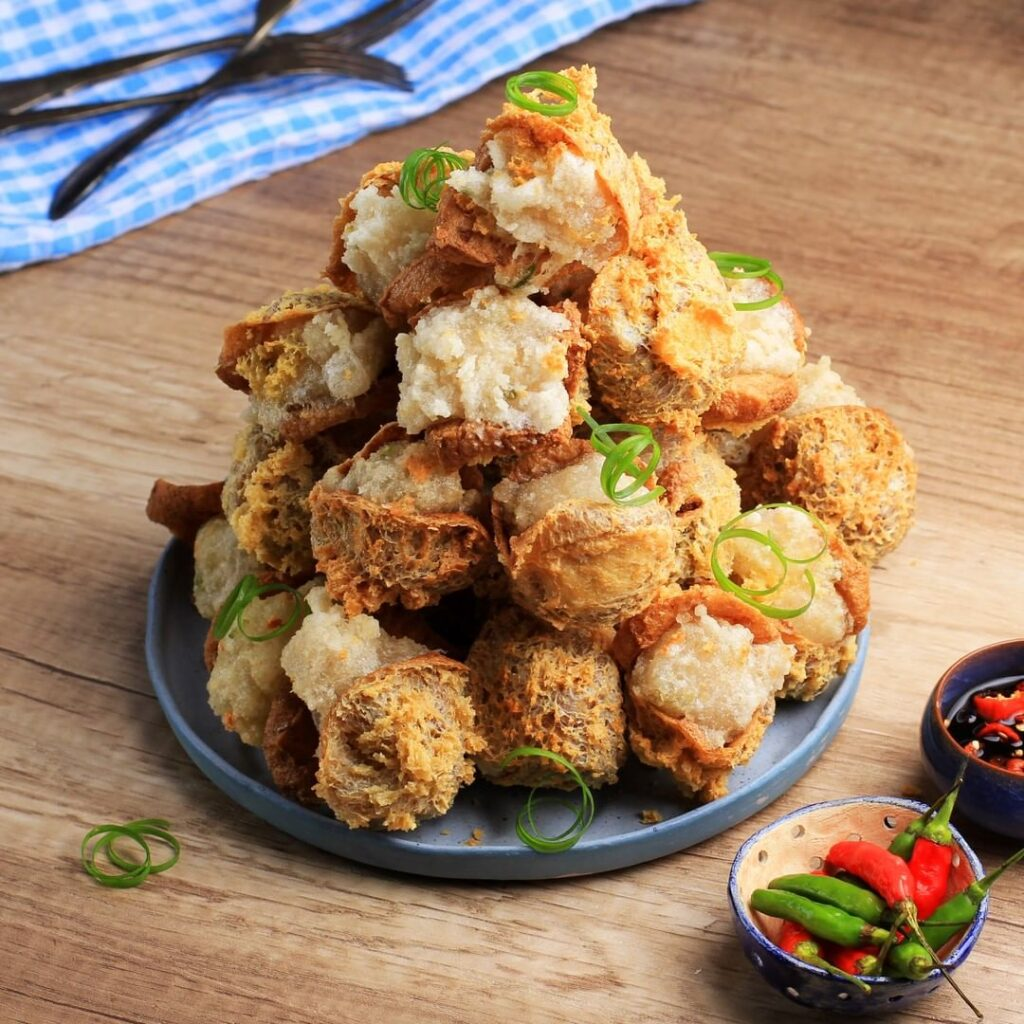Tahu: (413, 78, 663, 269), (464, 431, 698, 592), (344, 296, 598, 439), (562, 250, 759, 406), (286, 643, 488, 790), (626, 588, 807, 736), (482, 634, 640, 778)
